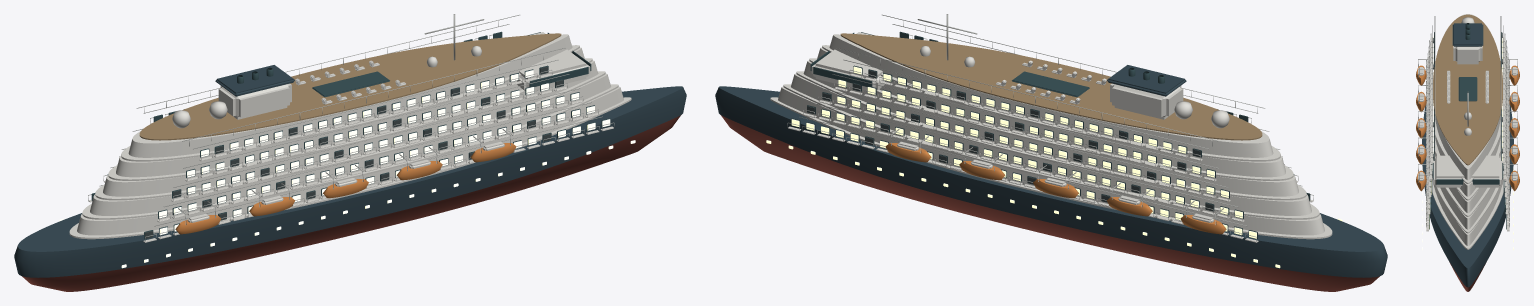
The model's file is coastal_cruise.glb.
3 views of the same model, side by side, from view 1: azimuth 30°, elevation 25°; view 2: azimuth 150°, elevation 25°; view 3: azimuth 270°, elevation 25° (orthographic). The views are drawn at different scales.
Visible parts, largest first — view 1: passenger deck, curved ship hull, upper teak promenade, underwater hull, railing, marine fitting.004, marine fitting, enclosed lifeboat, marine fitting.001; view 2: passenger deck, curved ship hull, upper teak promenade, underwater hull, railing, marine fitting.004, marine fitting, enclosed lifeboat, marine fitting.001; view 3: passenger deck, upper teak promenade, curved ship hull, railing, marine fitting, enclosed lifeboat, marine fitting.004, underwater hull.
Part boxes in pixels (x1,y1,x2,y2): passenger deck: (69, 32, 631, 242); curved ship hull: (14, 65, 686, 277); upper teak promenade: (139, 33, 561, 140); underwater hull: (22, 115, 680, 291); railing: (88, 14, 614, 241); marine fitting.004: (59, 70, 635, 268); marine fitting: (91, 31, 610, 239); enclosed lifeboat: (175, 143, 516, 234); marine fitting.001: (145, 66, 563, 238); passenger deck: (770, 32, 1332, 242); curved ship hull: (715, 65, 1387, 277); upper teak promenade: (840, 33, 1262, 140); underwater hull: (721, 115, 1379, 291); railing: (787, 14, 1313, 241); marine fitting.004: (766, 66, 1342, 268); marine fitting: (791, 31, 1310, 239); enclosed lifeboat: (885, 143, 1226, 234); marine fitting.001: (807, 70, 1213, 210); passenger deck: (1418, 14, 1517, 249); upper teak promenade: (1433, 14, 1502, 165); curved ship hull: (1422, 23, 1513, 287); railing: (1418, 16, 1517, 227); marine fitting: (1429, 23, 1506, 229); enclosed lifeboat: (1416, 65, 1519, 191); marine fitting.004: (1422, 32, 1513, 250); underwater hull: (1449, 262, 1486, 291).
Bounding box in the file's own units: 91 × 23.5 × 16.7.
